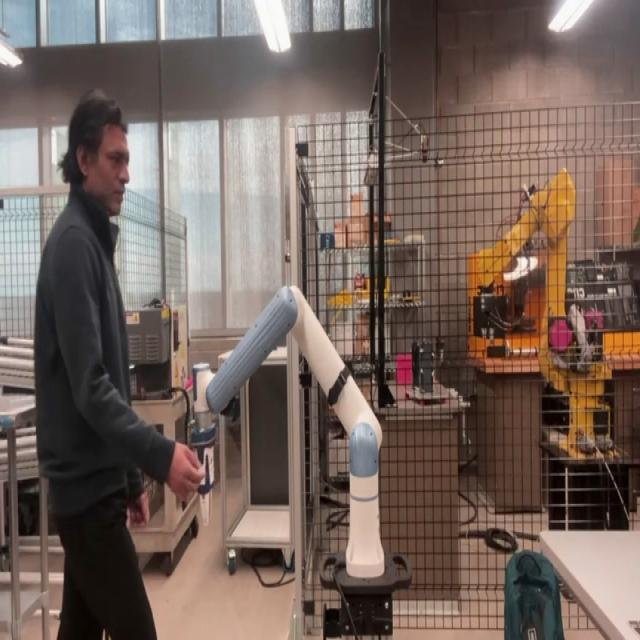robot: (188, 264, 394, 592)
